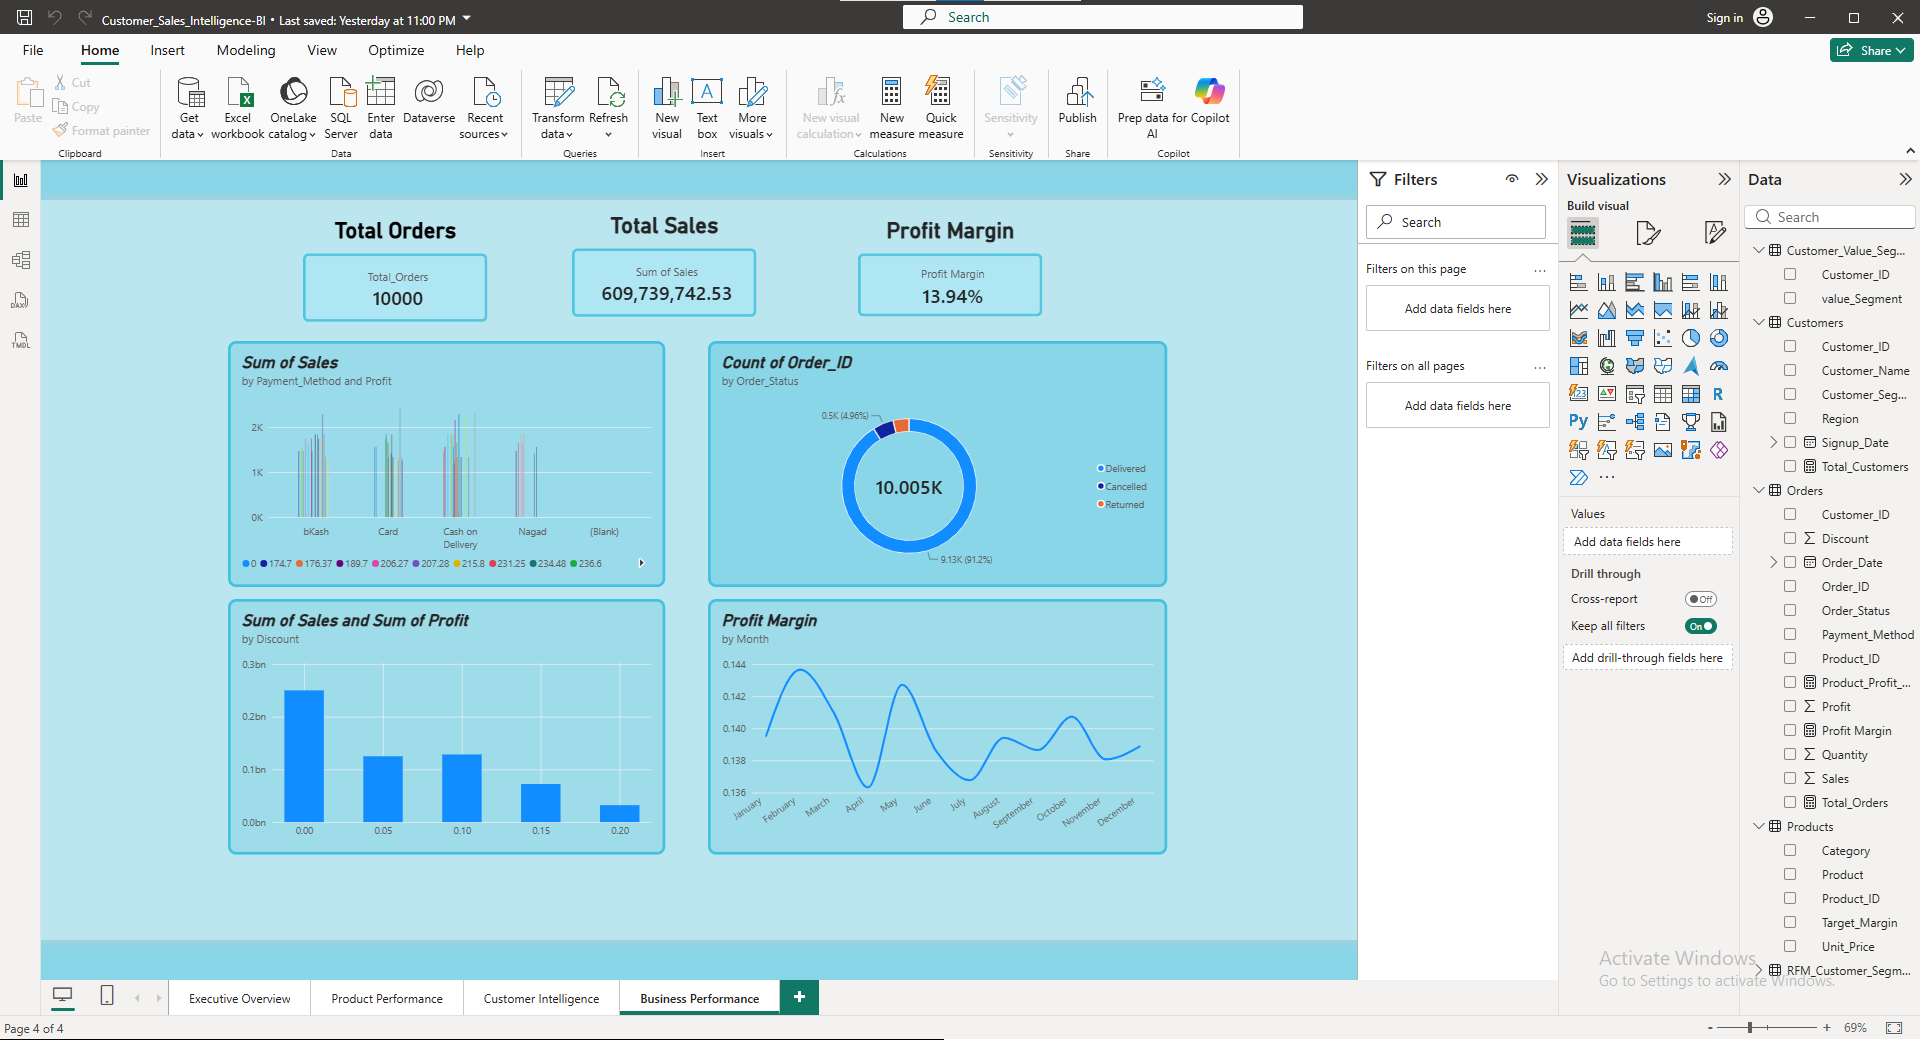

What the dashboard file says about the page in this screenshot:
{"tool":"powerbi","page":{"name":"Business Performance","canvas":[1920,1080],"ordinal":3},"visuals":[{"type":"clusteredColumnChart","fields":{"Category":["Orders.Payment_Method"],"Y":["Sum(Orders.Sales)"],"Series":["Orders.Profit"]},"box":[272.8,205.7,637.6,358.9],"z":0},{"type":"donutChart","fields":{"Category":["Orders.Order_Status"],"Y":["CountNonNull(Orders.Order_ID)"]},"box":[973.1,205.7,669.7,358.9],"z":1000},{"type":"clusteredColumnChart","fields":{"Category":["Orders.Discount"],"Y":["Sum(Orders.Sales)"]},"box":[272.8,582.1,637.6,373.5],"z":2000},{"type":"lineChart","fields":{"Category":["Orders.Order_Date.Variation.Date Hierarchy.Month"],"Y":["Orders.Profit Margin"]},"box":[973.1,582.1,669.7,373.5],"z":3000},{"type":"cardVisual","title":"Total Orders","fields":{"Data":["Orders.Total_Orders"]},"box":[382.2,24.8,269.9,153.2],"z":4000},{"type":"cardVisual","title":"Total Sales","fields":{"Data":["Sum(Orders.Sales)"]},"box":[774.7,17.5,269.9,153.2],"z":5000},{"type":"cardVisual","title":"Profit Margin","fields":{"Data":["Orders.Profit Margin"]},"box":[1192,24.8,269.9,145.9],"z":6000}]}

Visuals, with their boxes on the page's 1920x1080 design canvas (x1, y1, x2, y2). These are canvas units, not pixel positions in the 1920x1040 screenshot, which may show the page scaled, cropped or inside an application window:
clusteredColumnChart - Orders.Payment_Method x Sum(Orders.Sales): bbox=(273, 206, 910, 565)
donutChart - Orders.Order_Status x CountNonNull(Orders.Order_ID): bbox=(973, 206, 1643, 565)
clusteredColumnChart - Orders.Discount x Sum(Orders.Sales): bbox=(273, 582, 910, 956)
lineChart - Orders.Order_Date.Variation.Date Hierarchy.Month x Orders.Profit Margin: bbox=(973, 582, 1643, 956)
"Total Orders" cardVisual: bbox=(382, 25, 652, 178)
"Total Sales" cardVisual: bbox=(775, 18, 1045, 171)
"Profit Margin" cardVisual: bbox=(1192, 25, 1462, 171)
